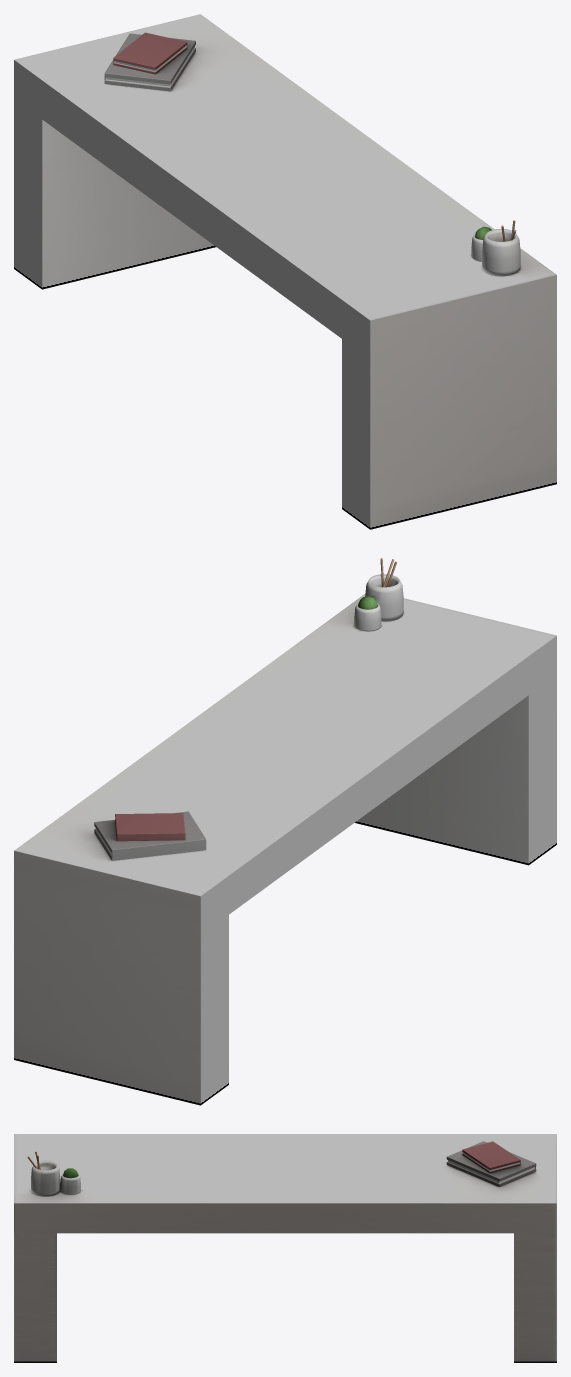
File: desk.glb
3 views of the same model, one above another, from view 1: azimuth 30°, elevation 25°; view 2: azimuth 150°, elevation 25°; view 3: azimuth 270°, elevation 25° (orthographic). The views are drawn at different scales.
Parts seen in each view (by area): view 1: Window; view 2: Window; view 3: Window.
Boxes of the visible parts, left/top/right/bottom form: Window: left=14, top=14, right=556, bottom=529; Window: left=14, top=558, right=556, bottom=1105; Window: left=14, top=1134, right=556, bottom=1362.
Bounding box in the file's own units: 0.672 × 0.8894 × 2.22.
3 materials, 3 textured.
